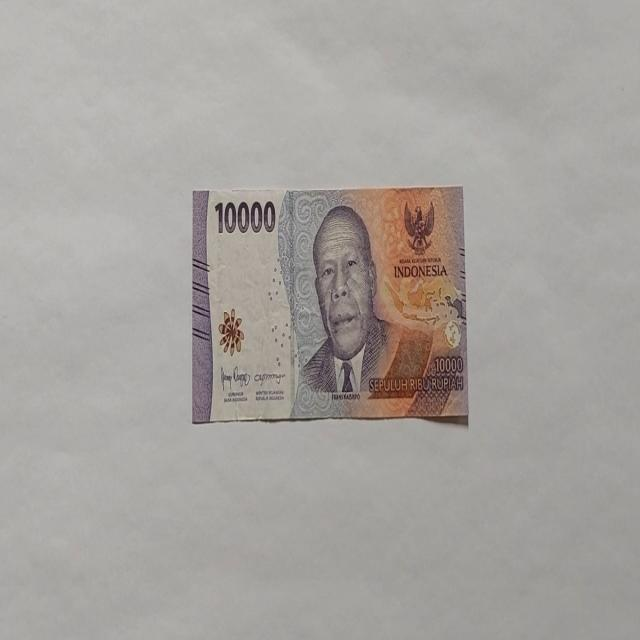sepuluh ribu rupiah: (192, 184, 468, 424), (287, 202, 435, 416)
